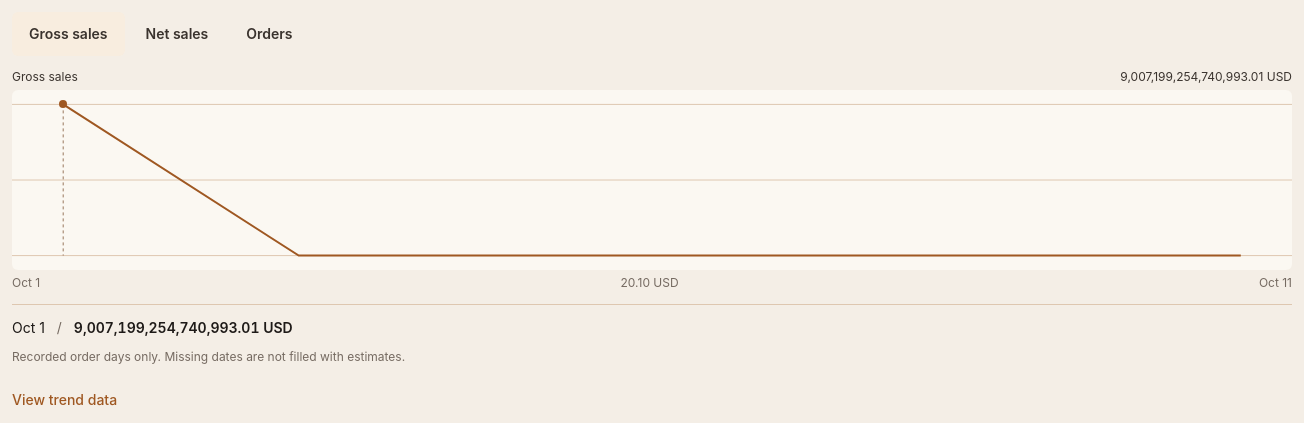
Test case: dashboard trends › switches between actual revenue and order series with selected states
Click the button "Net sales" at (177,34), box [128,12,225,56]
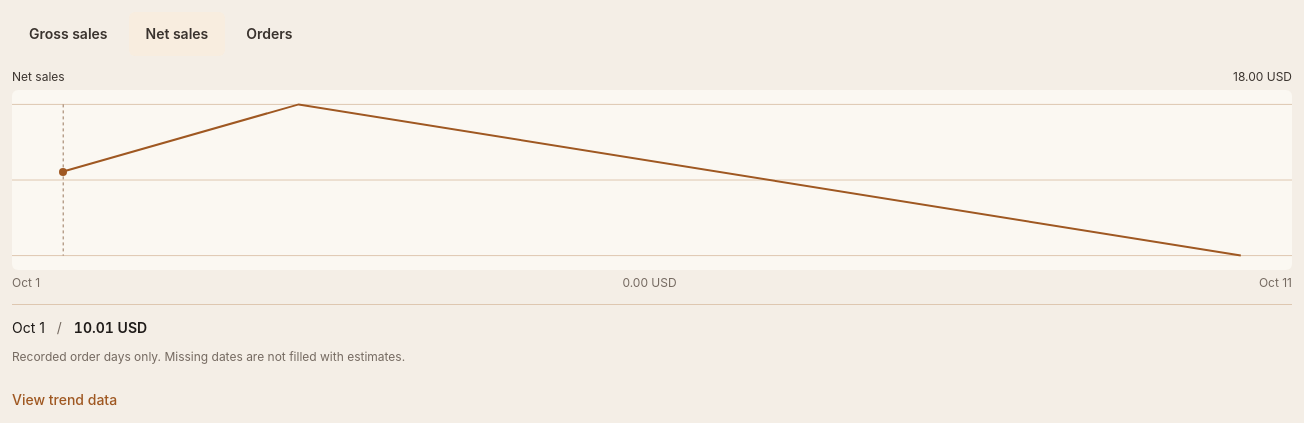
Now the message shows "10.01 USD", box [74,319,147,336]
Click the button "Orders" at (269,34), box [229,12,310,56]
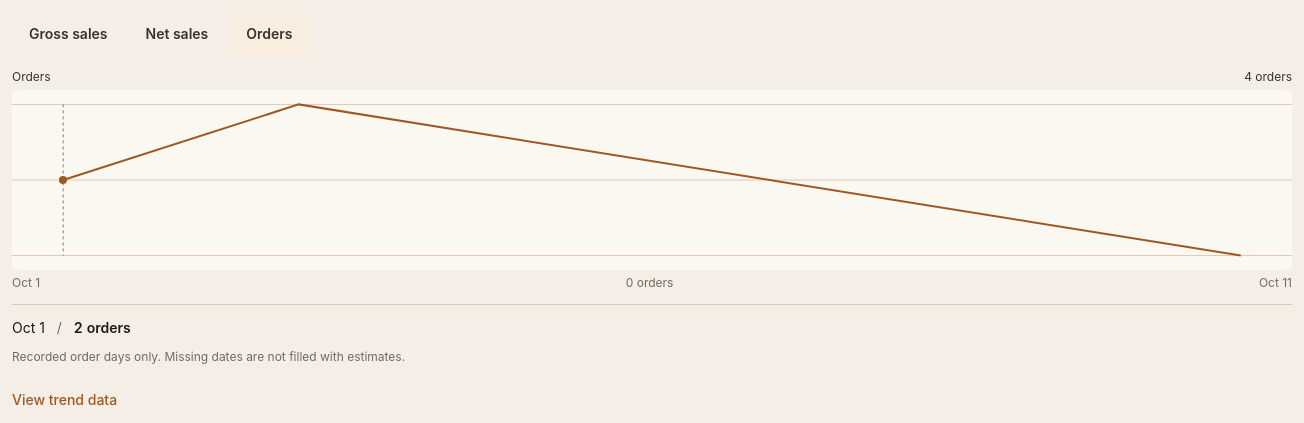
Now the element named "Orders chart" is shown, box [12,90,1292,270]
Now the message shows "2 orders", box [74,319,131,336]
